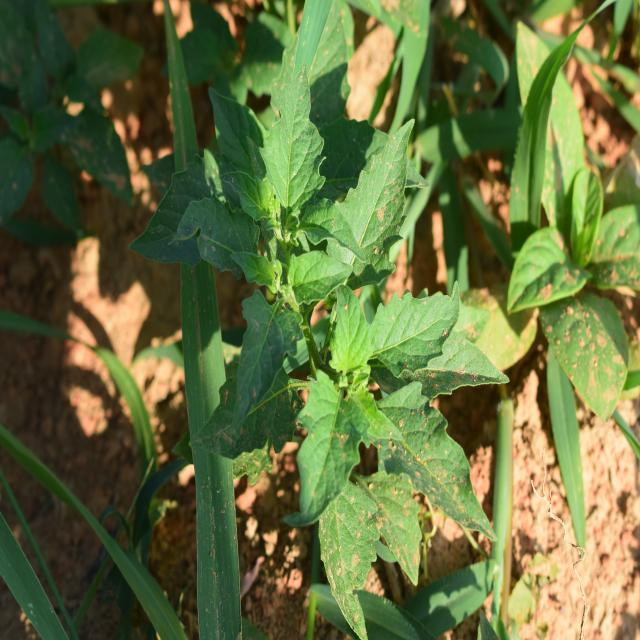Black_nightshade: (212, 83, 489, 563)
